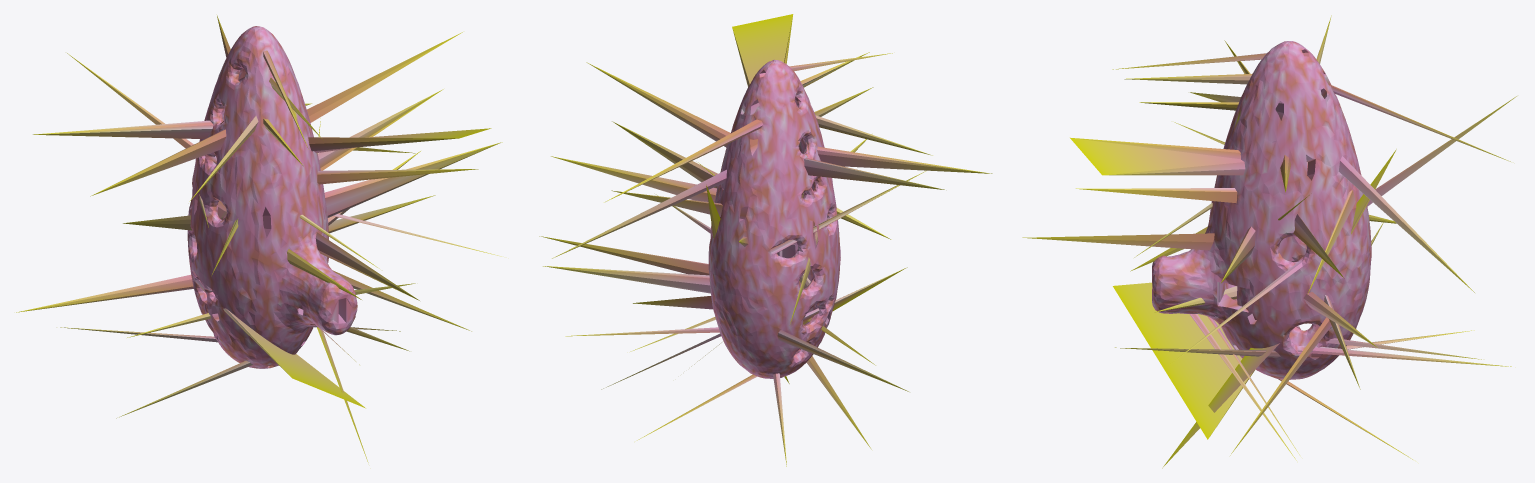
Rendered from stylized_mesh.obj.
3 renders of one model, left to right at view 1: azimuth 30°, elevation 25°; view 2: azimuth 150°, elevation 25°; view 3: azimuth 270°, elevation 25°, orthographic. The views are drawn at different scales.
Bounding box in the file's own units: 2.34 × 2.15 × 2.41.
